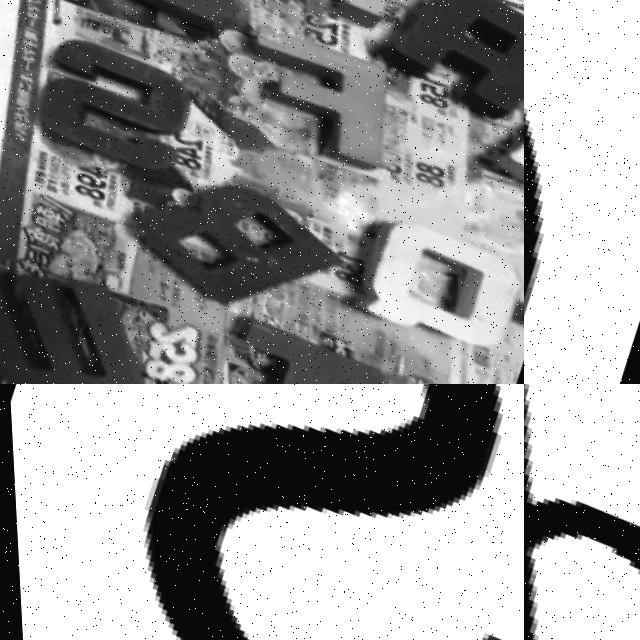A: (372, 0, 524, 121)
B: (111, 147, 349, 339)
D: (524, 384, 640, 640), (78, 0, 256, 34)
F: (224, 16, 405, 167)
I: (197, 309, 389, 384)
Q: (524, 0, 640, 384), (335, 200, 524, 360)
S: (14, 384, 524, 640), (26, 28, 201, 181)
W: (0, 233, 179, 384)
